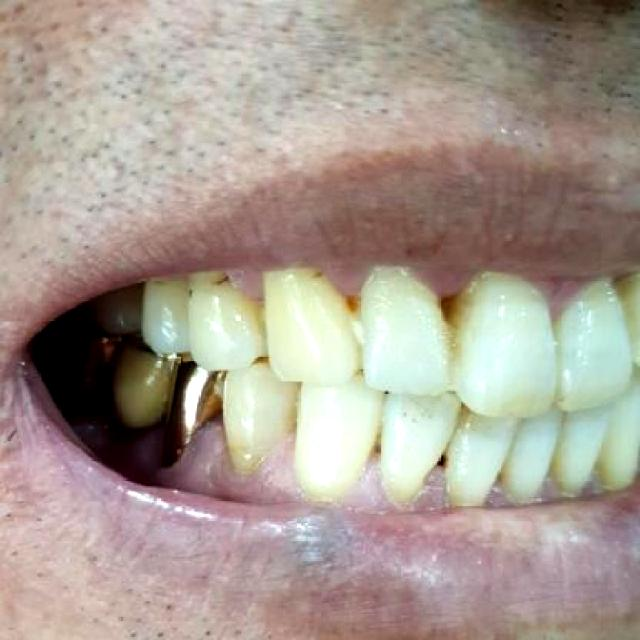Plaque: (198, 260, 246, 296)
